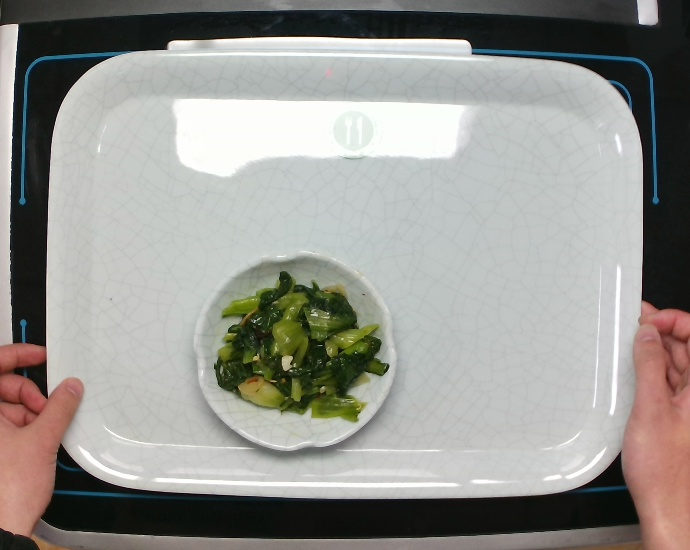JYsf-Ao_Yuan_Wan: (189, 246, 401, 453)
